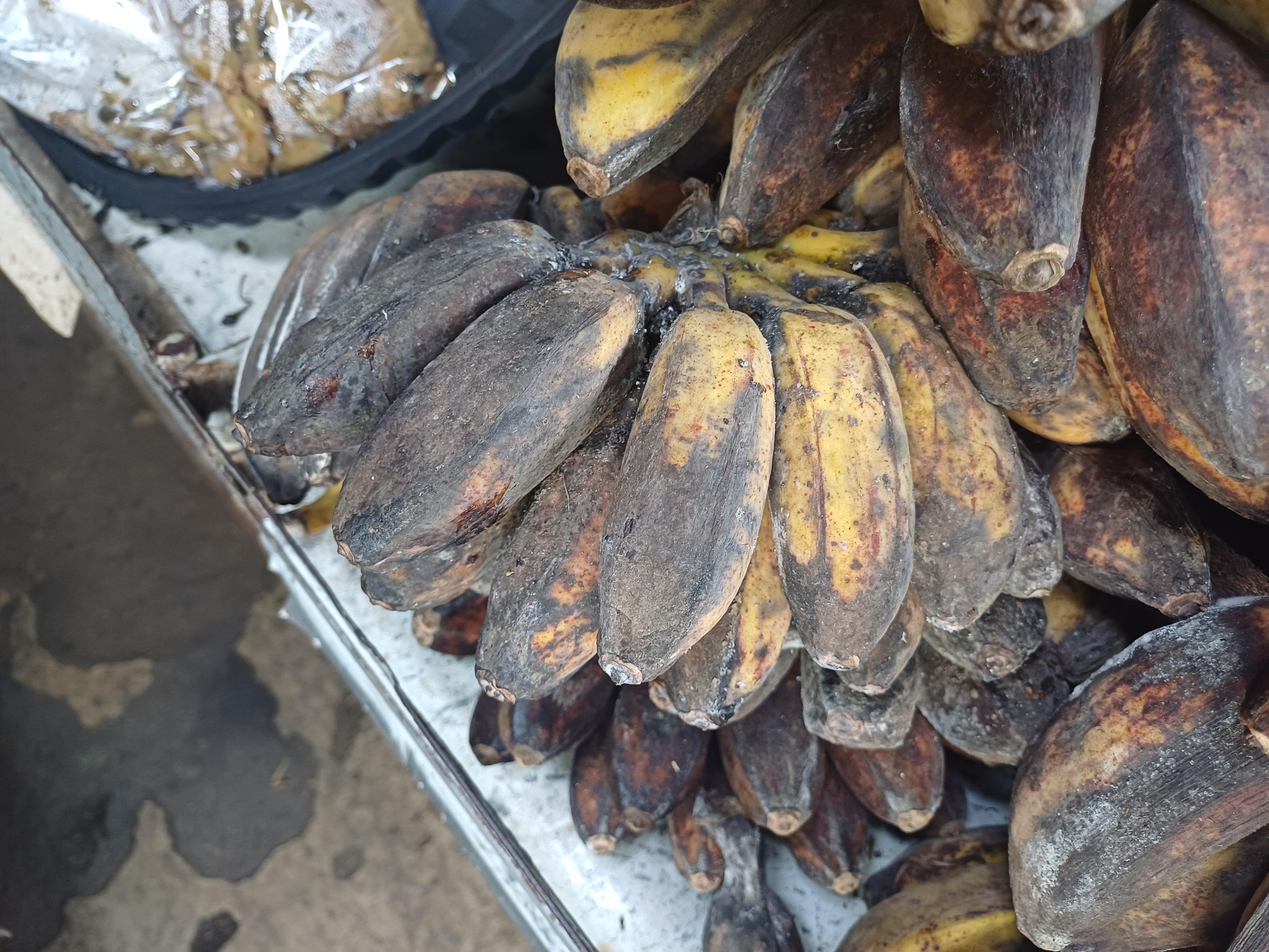overripe: (231, 220, 1137, 729), (900, 0, 1269, 522), (801, 432, 1269, 776), (470, 659, 945, 894), (999, 601, 1269, 952), (555, 0, 920, 243)
